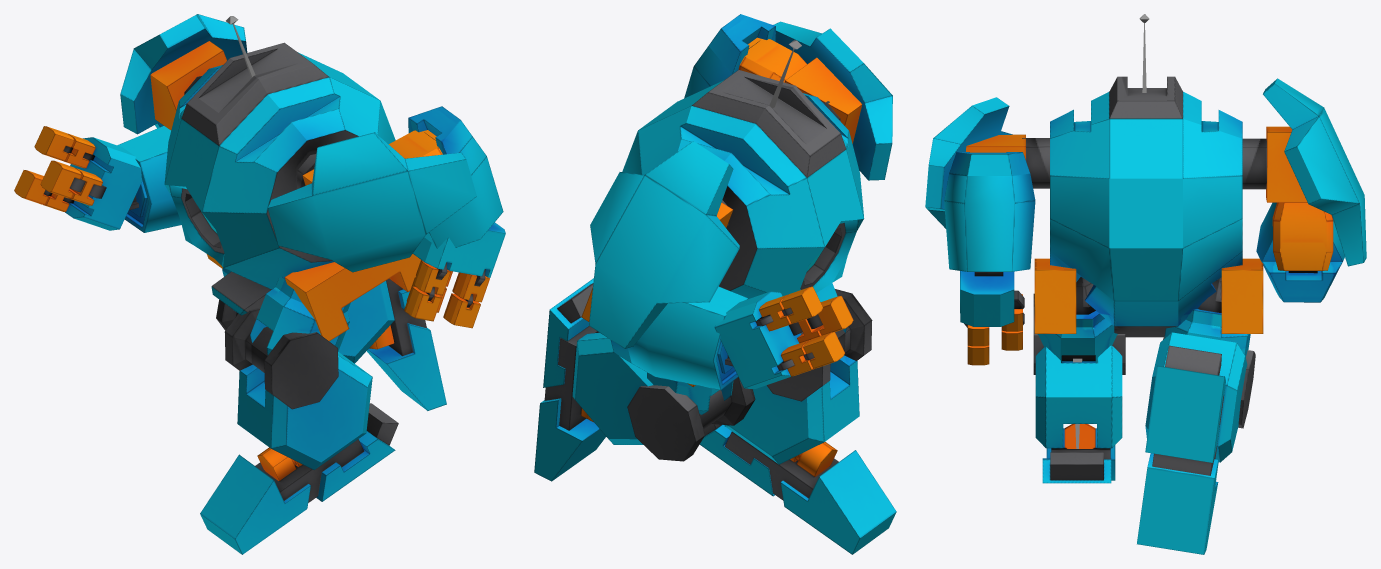
Rendered from Walk23.obj.
3 views of the same model, side by side, from view 1: azimuth 30°, elevation 25°; view 2: azimuth 150°, elevation 25°; view 3: azimuth 270°, elevation 25° (orthographic). The views are drawn at different scales.
Visible parts, largest first — view 1: Plane001, Object006, Object013, Object014, Object004, Object002, Object008, Object007, Object011, Object003, Object010, Object012; view 2: Plane001, Object002, Object010, Object014, Object006, Object013, Object004, Object011, Object003, Object007, Object009; view 3: Plane001, Object002, Object011, Object007, Object013, Object006, Object008, Object010, Object014, Object003, Object012, Object009 (+2 smaller).
Boxes of the visible parts, bbox=[...] form: Plane001: bbox=[164, 42, 420, 341]; Object006: bbox=[267, 130, 476, 272]; Object013: bbox=[224, 307, 372, 469]; Object014: bbox=[200, 403, 398, 554]; Object004: bbox=[14, 126, 142, 230]; Object002: bbox=[120, 14, 247, 134]; Object008: bbox=[404, 222, 505, 328]; Object007: bbox=[408, 106, 503, 248]; Object011: bbox=[367, 279, 446, 410]; Object003: bbox=[117, 126, 181, 232]; Object010: bbox=[216, 280, 394, 363]; Object012: bbox=[250, 277, 350, 354]; Plane001: bbox=[581, 70, 864, 386]; Object002: bbox=[589, 141, 739, 348]; Object010: bbox=[572, 332, 755, 461]; Object014: bbox=[699, 424, 896, 554]; Object006: bbox=[738, 21, 892, 180]; Object013: bbox=[724, 289, 872, 464]; Object004: bbox=[714, 286, 853, 389]; Object011: bbox=[534, 278, 606, 481]; Object003: bbox=[610, 286, 748, 390]; Object007: bbox=[684, 14, 775, 98]; Object009: bbox=[647, 372, 733, 414]; Plane001: bbox=[1034, 76, 1263, 337]; Object002: bbox=[1263, 78, 1366, 270]; Object011: bbox=[1137, 345, 1225, 554]; Object007: bbox=[944, 152, 1035, 271]; Object013: bbox=[1033, 293, 1125, 448]; Object006: bbox=[925, 97, 1025, 228]; Object008: bbox=[960, 271, 1024, 365]; Object010: bbox=[1145, 332, 1255, 462]; Object014: bbox=[1042, 424, 1115, 483]; Object003: bbox=[1256, 202, 1344, 302]; Object012: bbox=[1037, 277, 1117, 362]; Object009: bbox=[1164, 277, 1250, 357].
Size of the model in its own units: 162 by 220 by 182.
